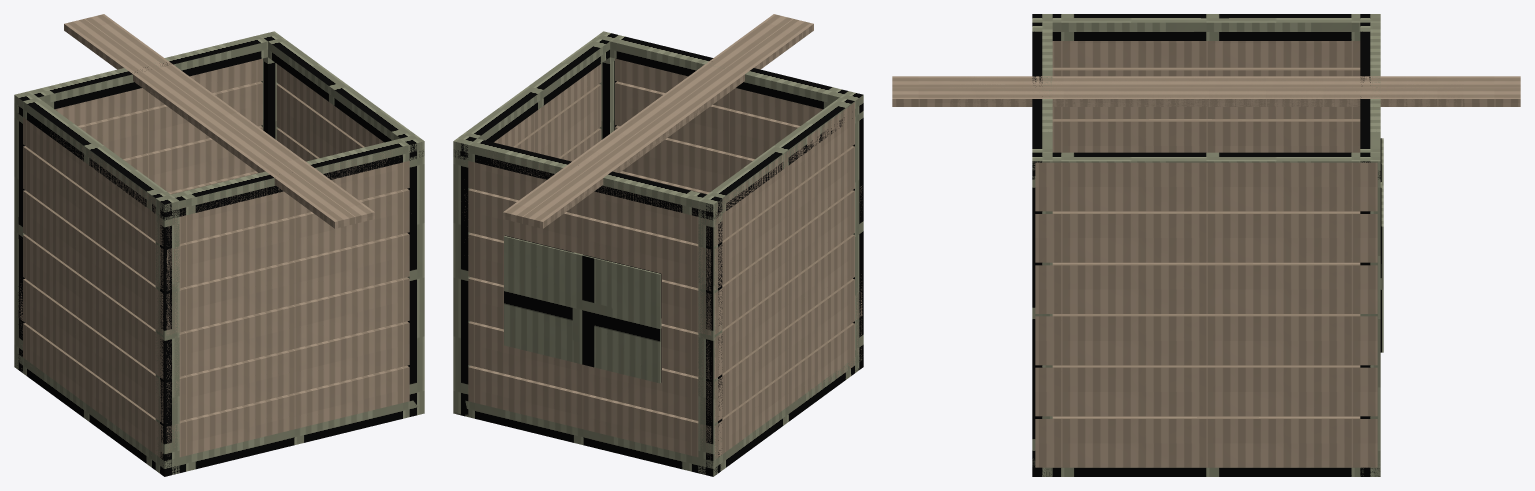
File: crate_12.glb
3 renders of one model, left to right at view 1: azimuth 30°, elevation 25°; view 2: azimuth 150°, elevation 25°; view 3: azimuth 270°, elevation 25°, orthographic. The views are drawn at different scales.
Parts seen in each view (by area): view 1: crate_12; view 2: crate_12; view 3: crate_12.
Part boxes in pixels (box(x1,y1,x2,y2)): crate_12: box(14, 14, 424, 476); crate_12: box(453, 14, 863, 476); crate_12: box(892, 14, 1520, 476).
Bounding box in the file's own units: 1.2 × 1.2 × 2.16.
2 materials, 2 textured.
